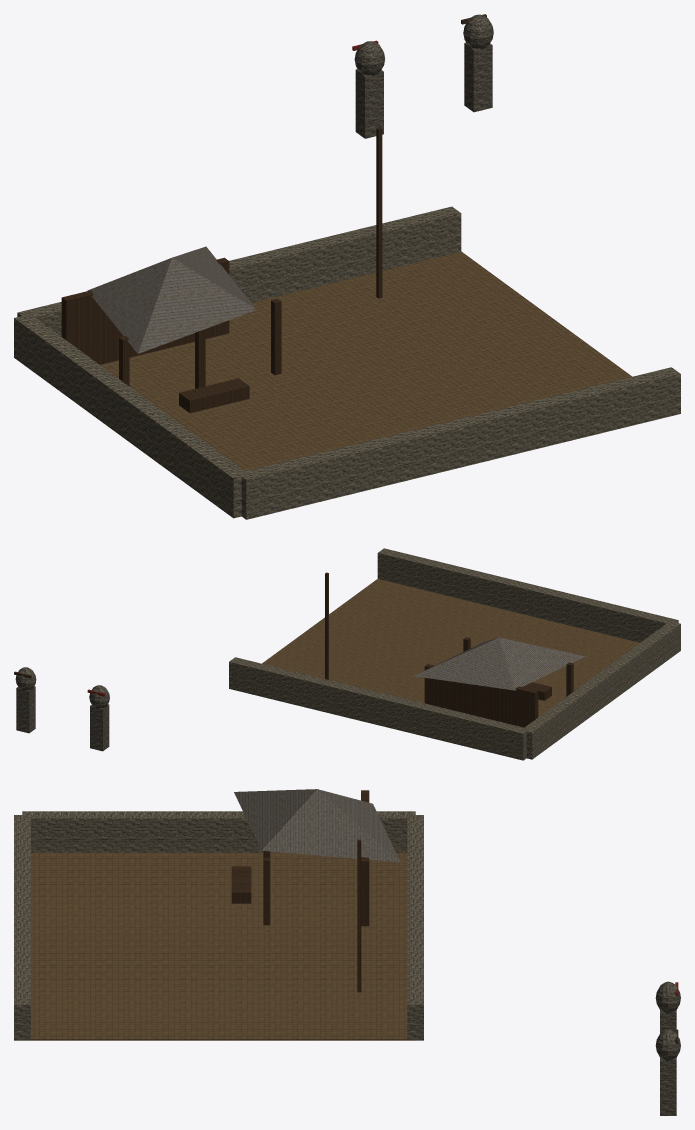
Rendered from era_post_station_01.glb.
3 renders of one model, top to bottom at view 1: azimuth 30°, elevation 25°; view 2: azimuth 150°, elevation 25°; view 3: azimuth 270°, elevation 25°, orthographic. The views are drawn at different scales.
Parts seen in each view (by area): view 1: era_post_station_01; view 2: era_post_station_01; view 3: era_post_station_01.
Boxes of the visible parts, bbox=[...] form: era_post_station_01: bbox=[14, 14, 680, 519]; era_post_station_01: bbox=[14, 548, 680, 760]; era_post_station_01: bbox=[14, 789, 680, 1115].
Size of the model in its own units: 22.8 by 6 by 23.75.
Materials: 6 (6 with a texture image).
